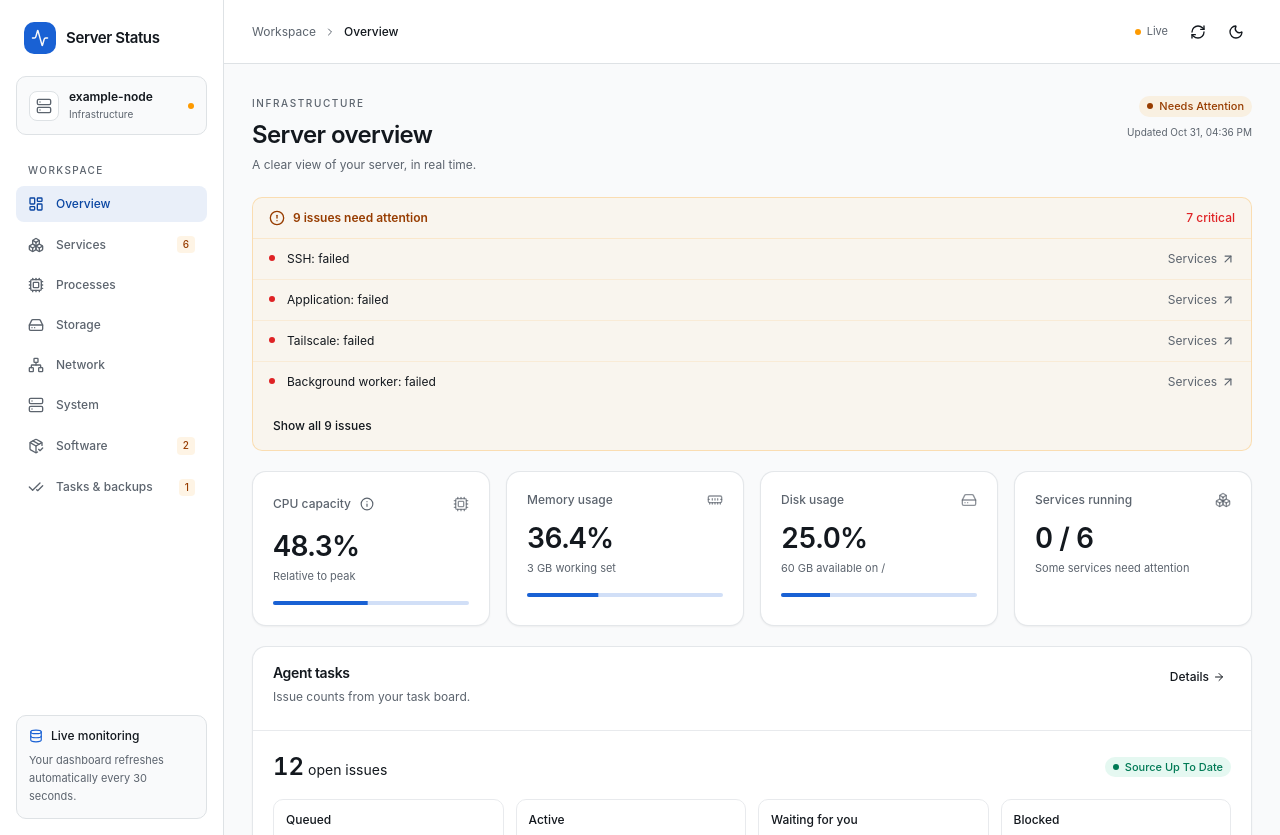
dashboard features › prioritizes issues, expands the list and opens the related diagnostic view
Step 1. Click the button "Show all 9 issues" → (322, 426), box [261, 410, 384, 442]
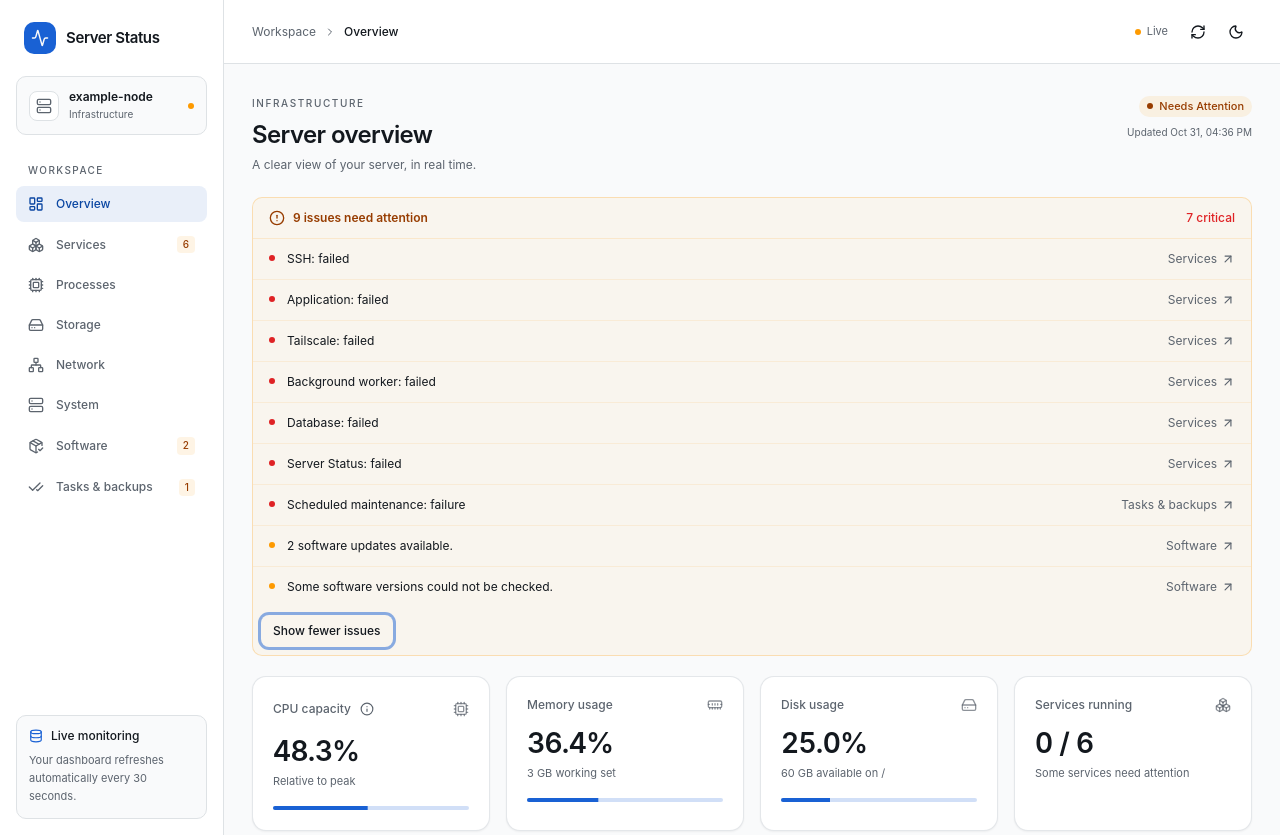
Step 2. Click the link "SSH: failed Services" → (318, 258), box [269, 251, 1235, 266]
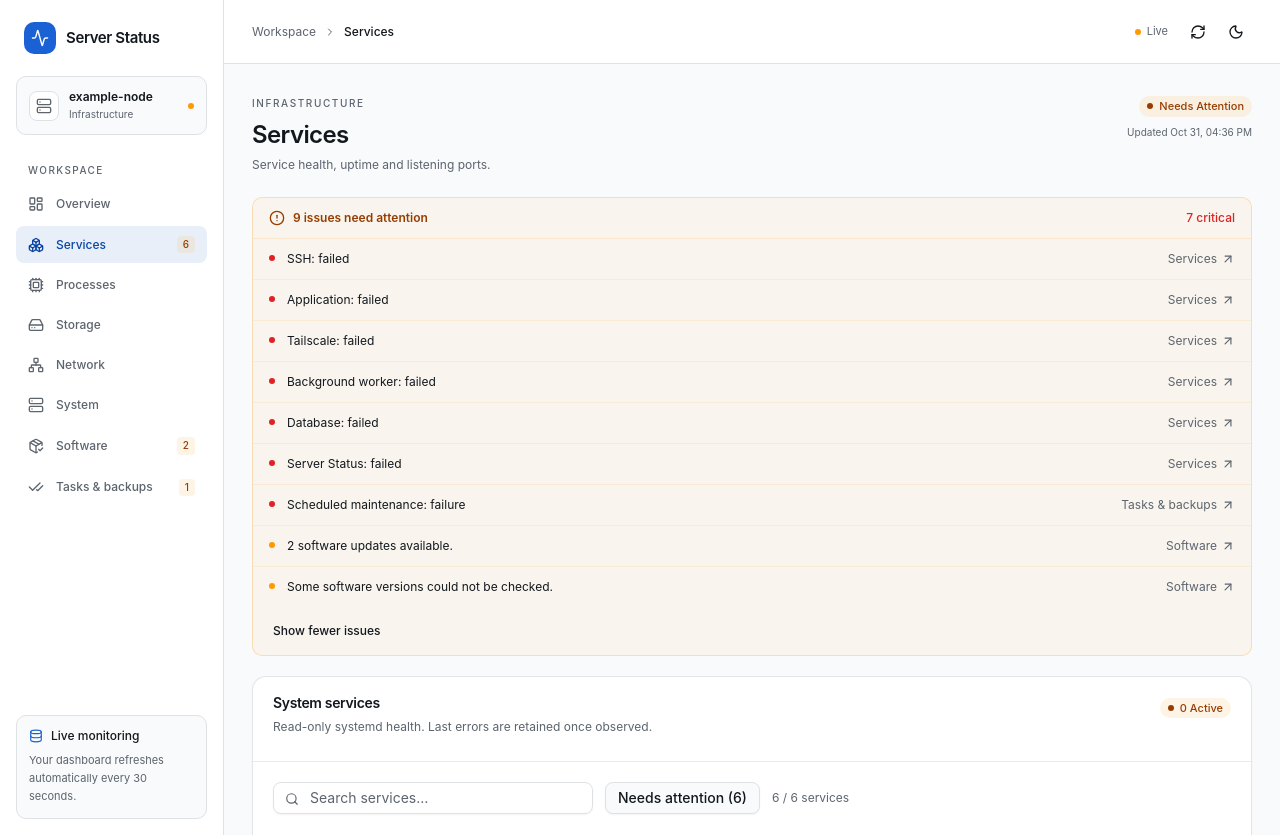
Now the heading "Services" is shown, box [252, 120, 349, 149]
